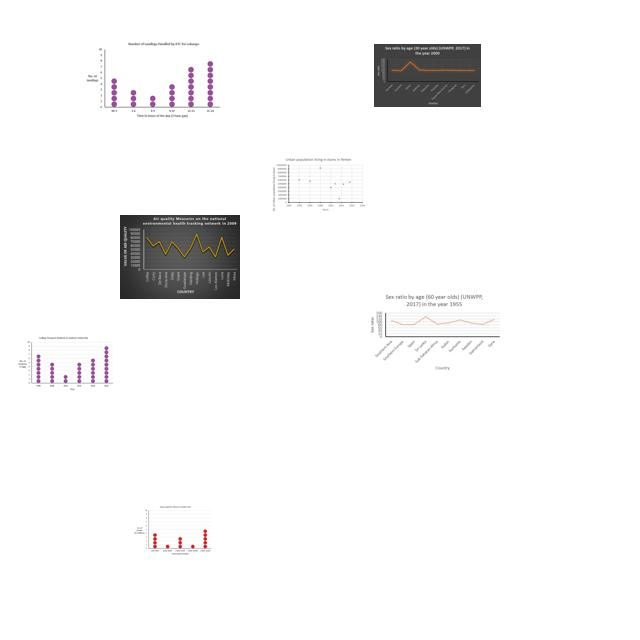Graph: (82, 39, 223, 121), (366, 291, 503, 372), (120, 215, 240, 299), (374, 44, 481, 107), (16, 335, 115, 393), (270, 156, 366, 213), (132, 504, 213, 557)
